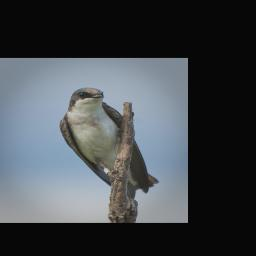Swallow: (59, 87, 160, 200)
